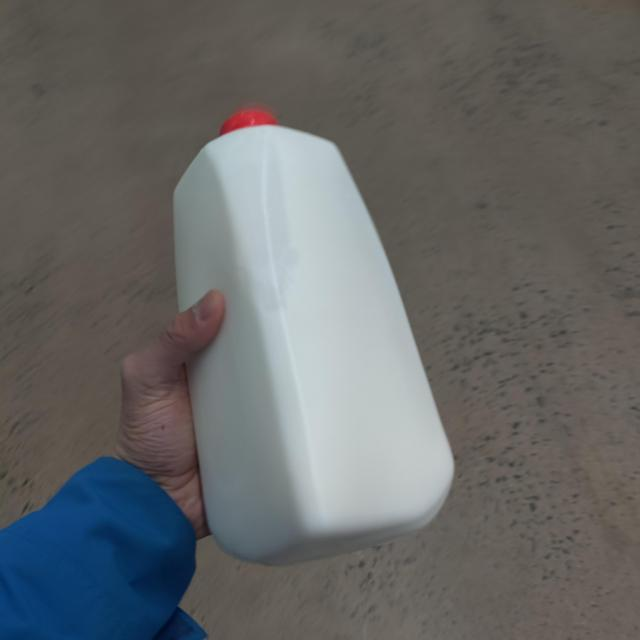Milk: (140, 94, 474, 569)
